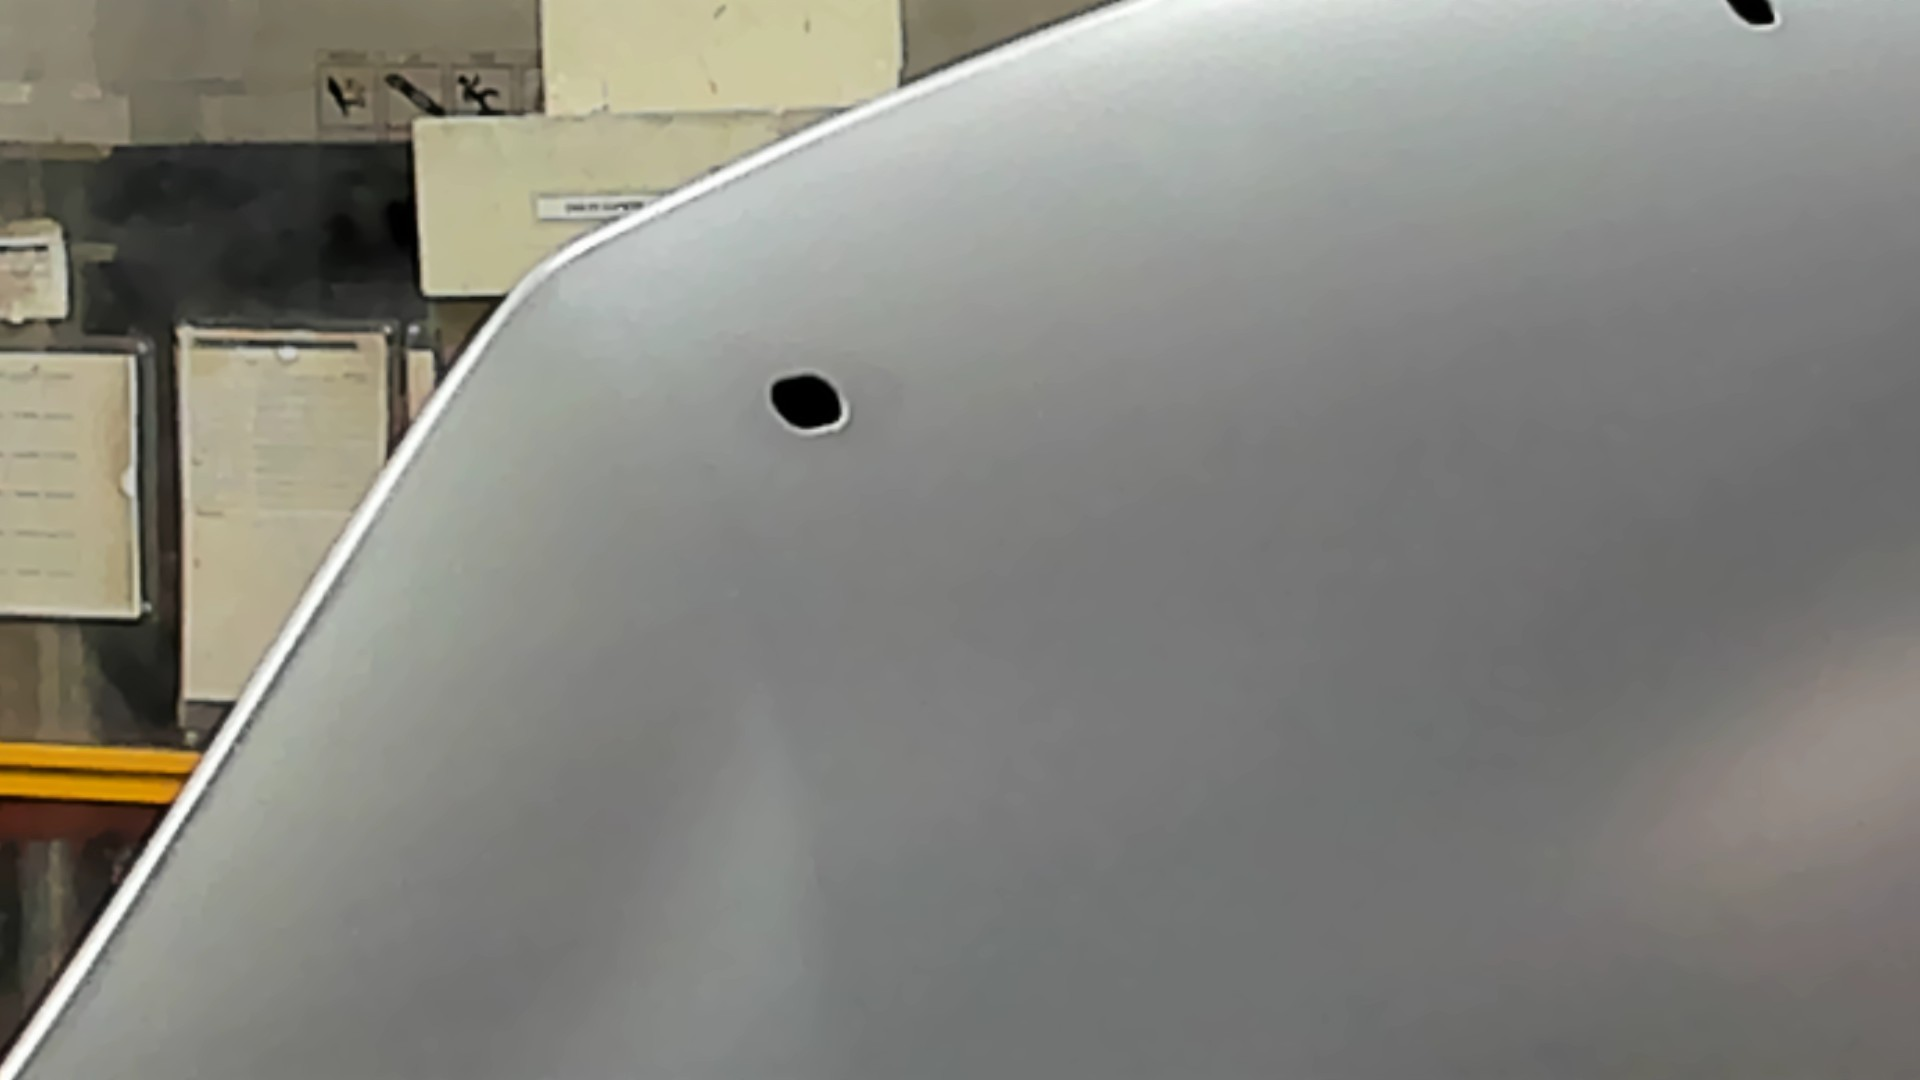amorfo: (766, 363, 858, 442), (1718, 1, 1785, 38)
capo: (948, 105, 1920, 1080)
